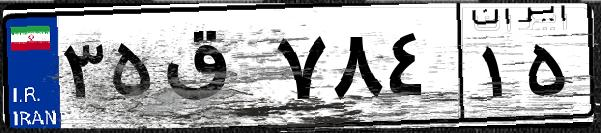1: (475, 38, 525, 113)
3: (57, 26, 110, 100)
4: (385, 28, 445, 110)
5: (525, 38, 570, 115), (110, 28, 158, 98)
7: (270, 28, 330, 110)
8: (330, 28, 385, 110)
ق: (158, 20, 270, 120)
